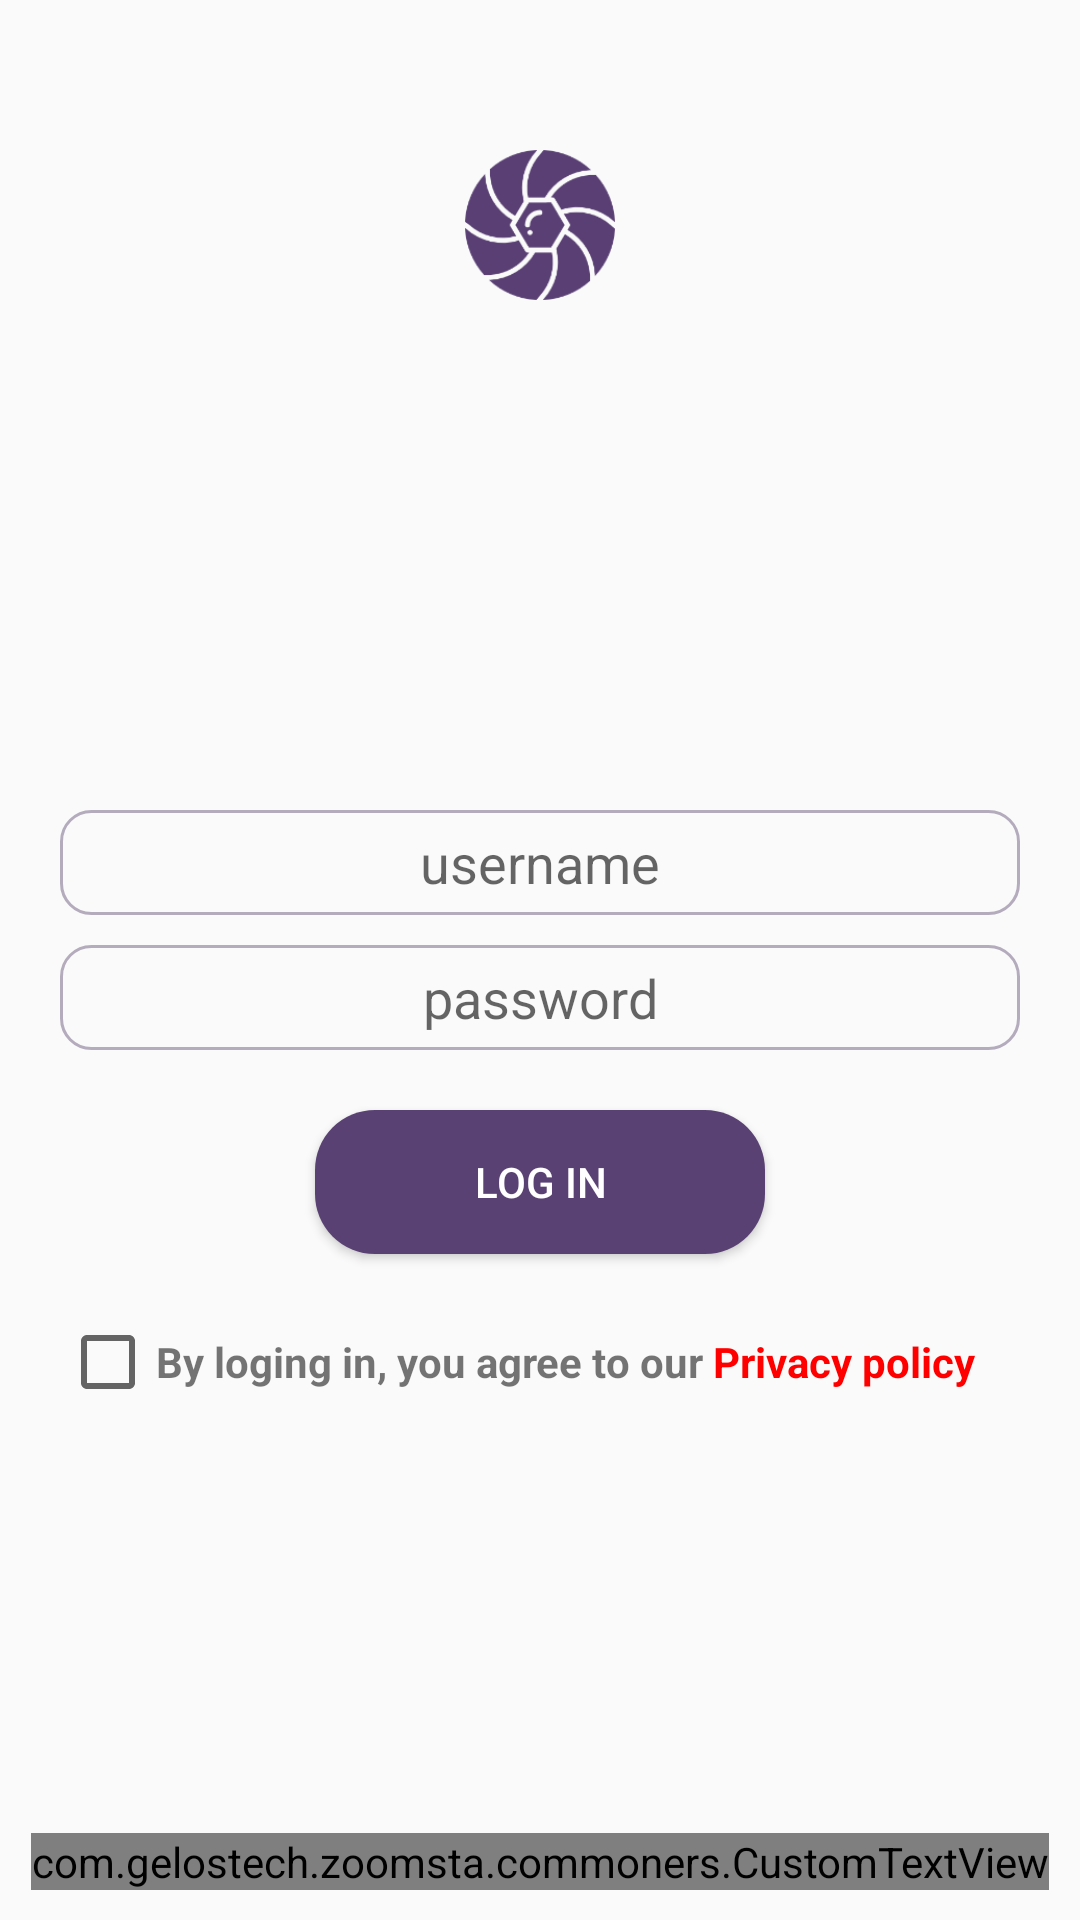

Screen size 1080 × 1920. Icon name, then its box in pixels as (x1, y1, x2, y2):
camera lens: (465, 150, 615, 300)
